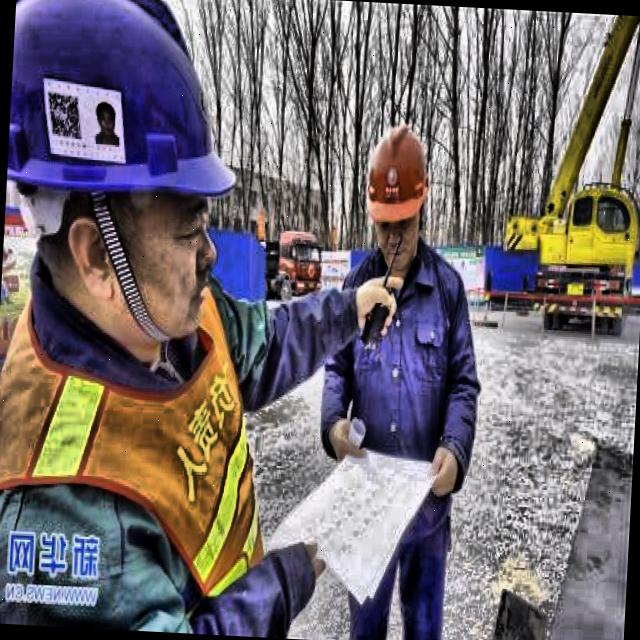helmet: (6, 0, 260, 368), (360, 110, 439, 275)
